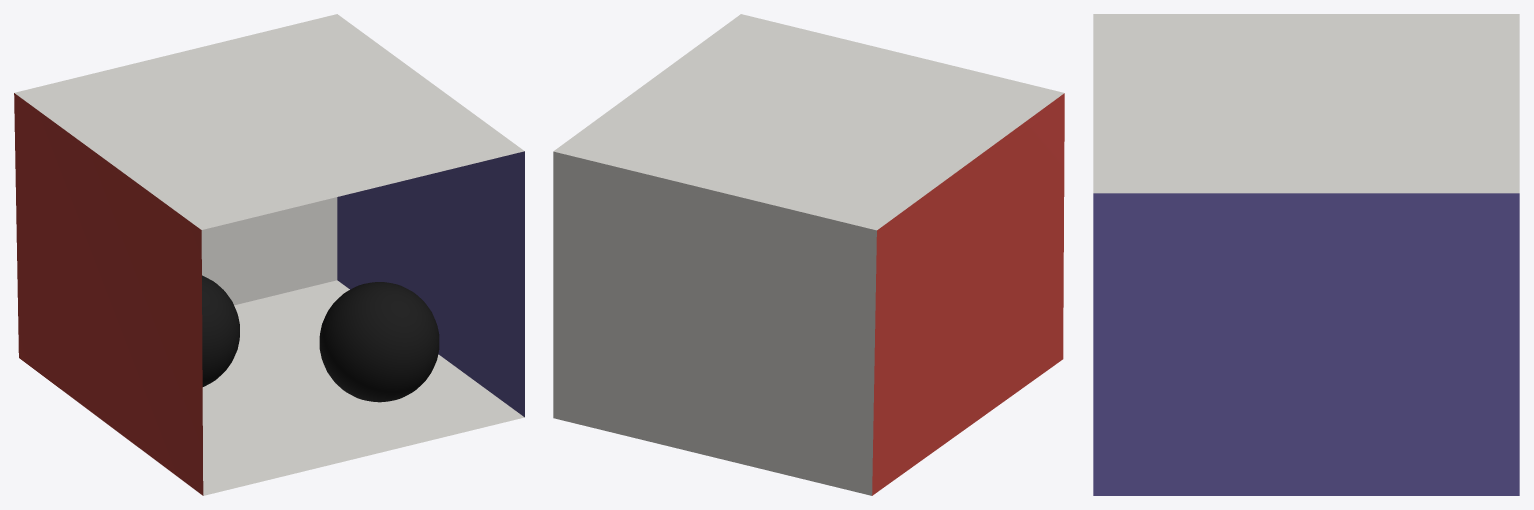
File: CornellBox-Sphere.gltf
3 views of the same model, side by side, from view 1: azimuth 30°, elevation 25°; view 2: azimuth 150°, elevation 25°; view 3: azimuth 270°, elevation 25° (orthographic). The views are drawn at different scales.
Parts seen in each view (by area): view 1: CornellBox-Sphere; view 2: CornellBox-Sphere; view 3: CornellBox-Sphere.
Part boxes in pixels (x1,y1,x2,y2): CornellBox-Sphere: (14,14,524,495); CornellBox-Sphere: (553,14,1064,495); CornellBox-Sphere: (1093,14,1519,495).
Size of the model in its own units: 2.02 by 1.59 by 2.03.
